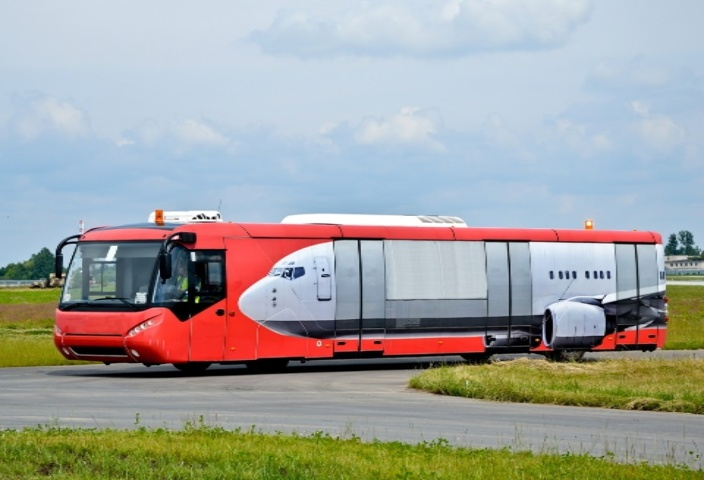bus: (36, 203, 685, 378)
